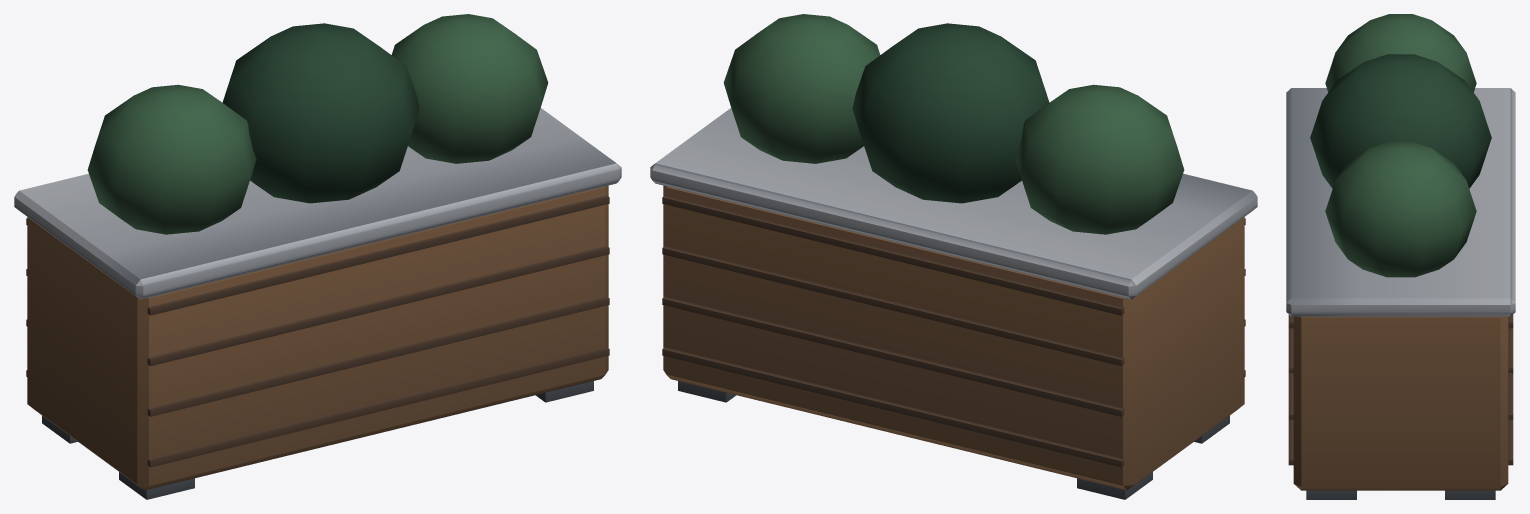
File: ck_planter_box.fbx
The picture shows the model from 3 angles, left to right: view 1: azimuth 30°, elevation 25°; view 2: azimuth 150°, elevation 25°; view 3: azimuth 270°, elevation 25°; orthographic projection. The views are drawn at different scales.
Parts seen in each view (by area): view 1: ck_planter_box; view 2: ck_planter_box; view 3: ck_planter_box.
Part boxes in pixels (x1=…): ck_planter_box: x1=14, y1=14, x2=621, y2=499; ck_planter_box: x1=650, y1=14, x2=1257, y2=499; ck_planter_box: x1=1286, y1=14, x2=1515, y2=499.
Bounding box in the file's own units: 390 × 286 × 177.
